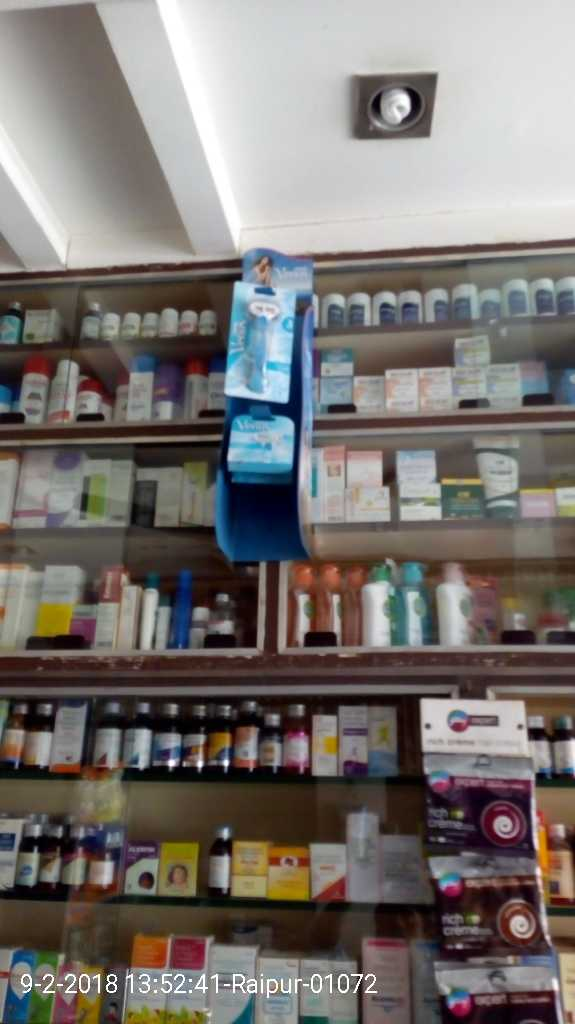venus: (224, 284, 299, 406), (214, 406, 296, 468)
